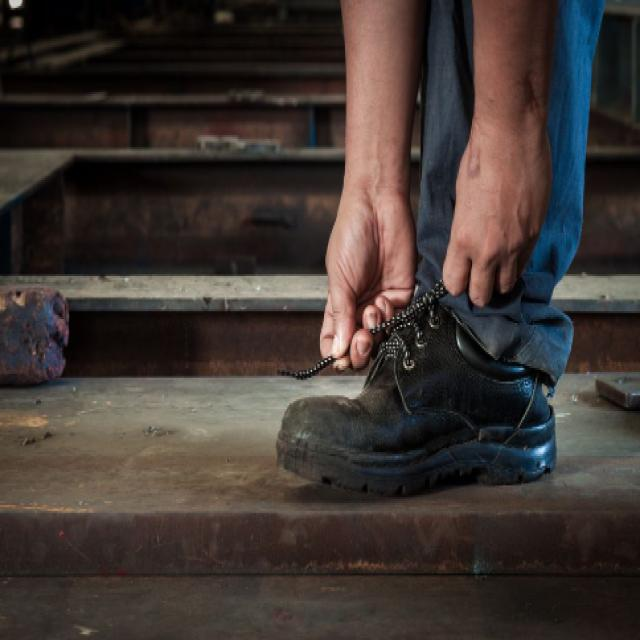boots: (273, 267, 564, 500)
